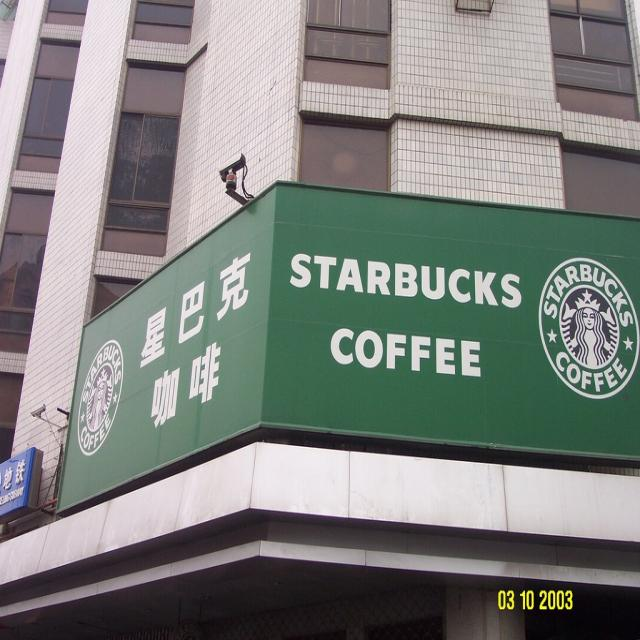starbucks: (540, 259, 640, 399), (78, 341, 124, 457)
